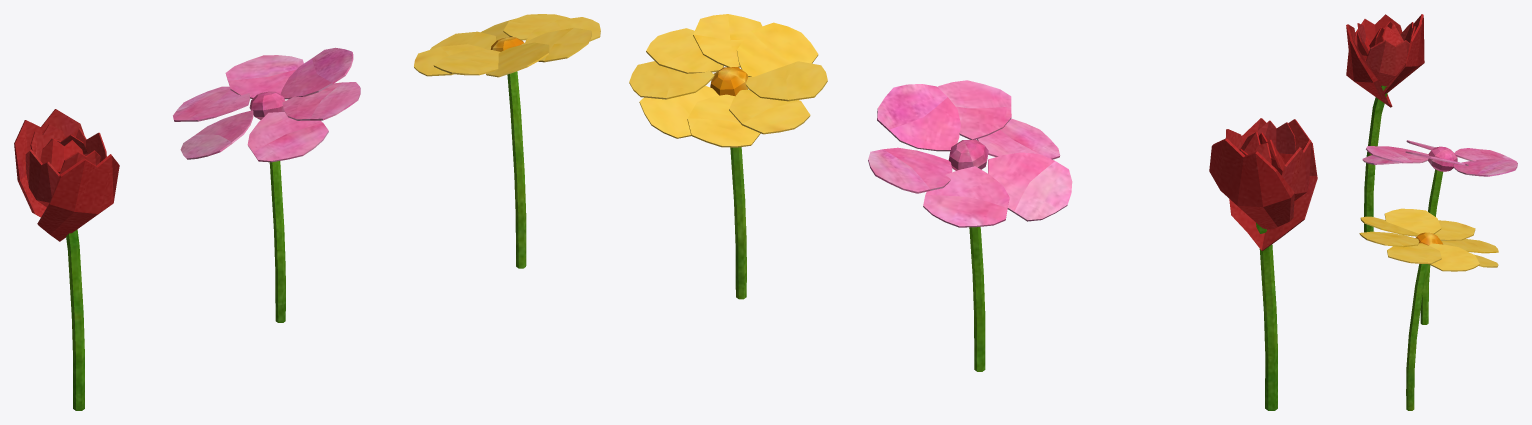
Rendered from modulo_de_flores.glb.
3 views of the same model, side by side, from view 1: azimuth 30°, elevation 25°; view 2: azimuth 150°, elevation 25°; view 3: azimuth 270°, elevation 25° (orthographic). The views are drawn at different scales.
Visible parts, largest first — view 1: Cube; view 2: Cube; view 3: Cube.
Part boxes in pixels (x1,y1,x2,y2): Cube: (14,14,600,410); Cube: (629,14,1317,410); Cube: (1346,14,1517,410).
Bounding box in the file's own units: 1000 × 446 × 320.
Materials: 1 (1 with a texture image).
